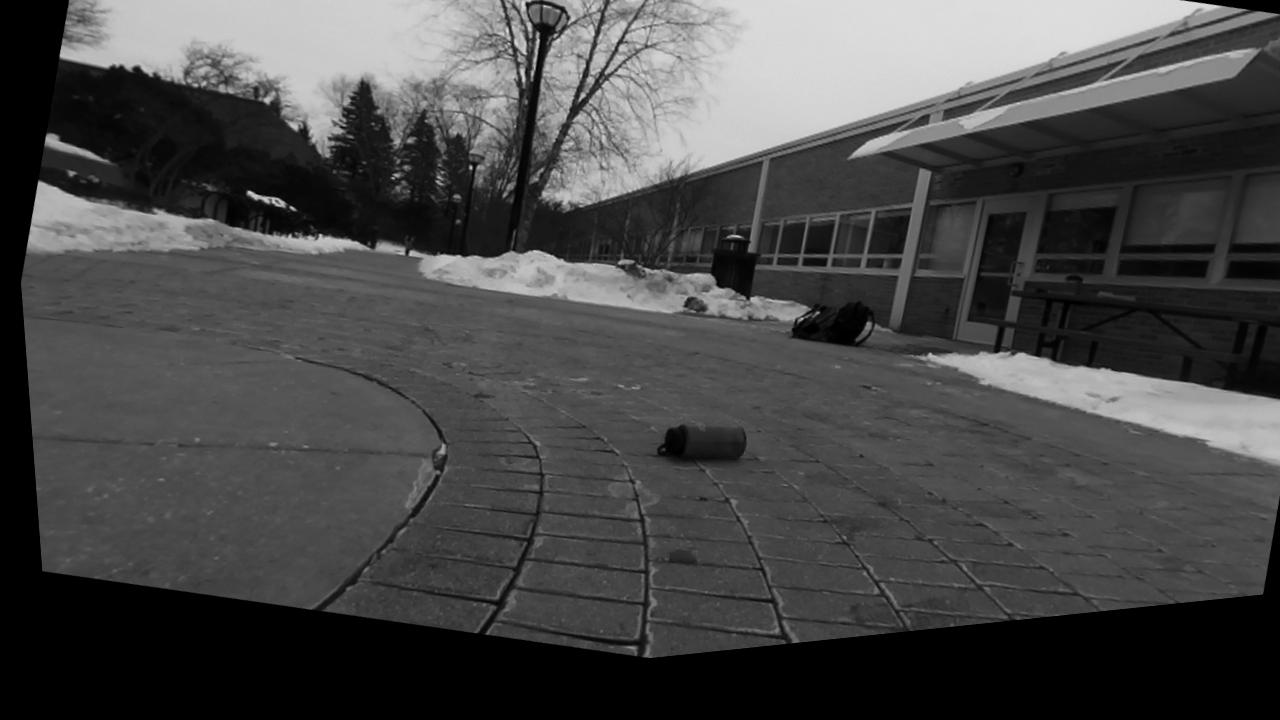bottle: (659, 424, 746, 459)
mallet: (1096, 290, 1135, 299)
